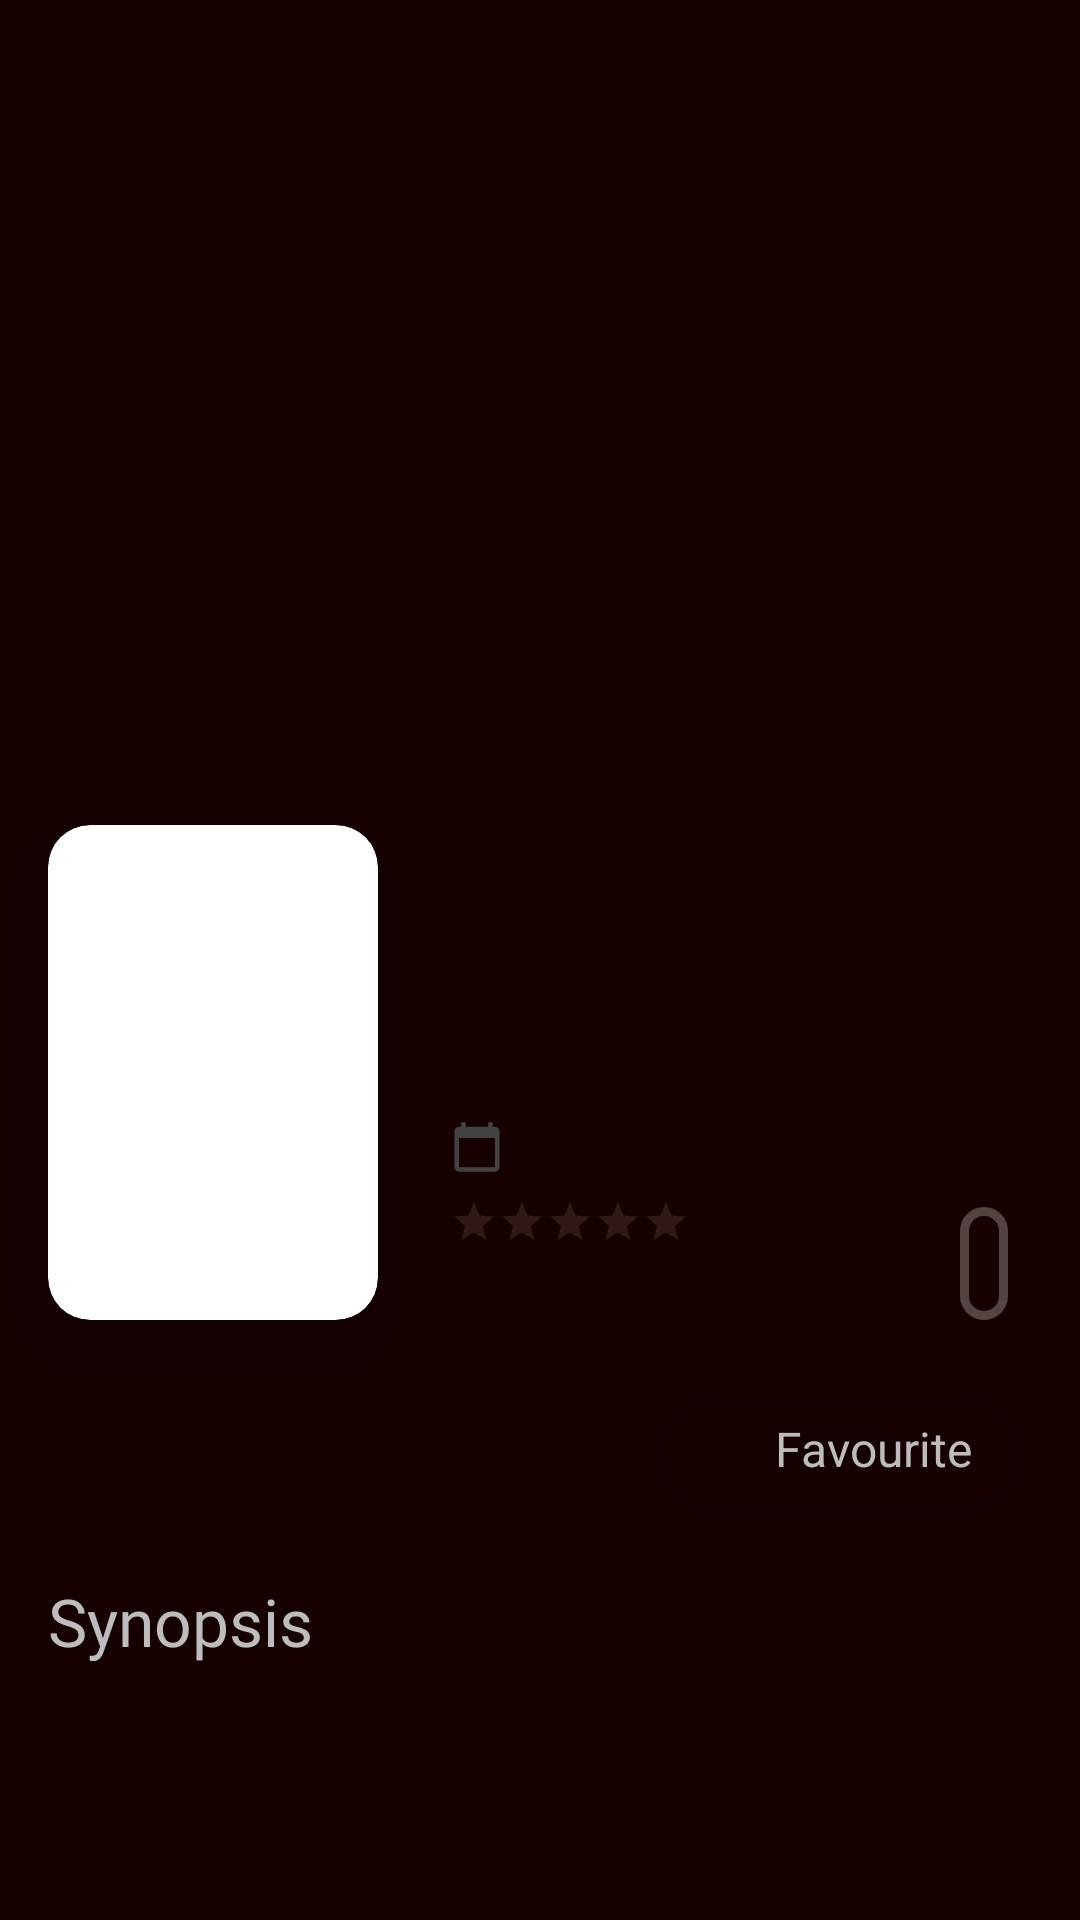

Icon bounding boxes for this 1080*1920 phone screenshot, format bbox=(x1, y1, x2, y2):
calendar today: bbox=(454, 1122, 500, 1172)
